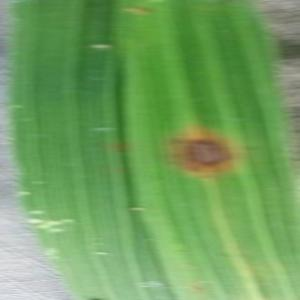Brown_Spot: (162, 126, 241, 183)
